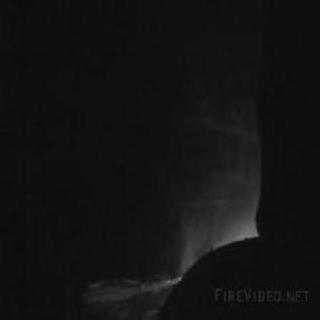other: (187, 231, 263, 251)
